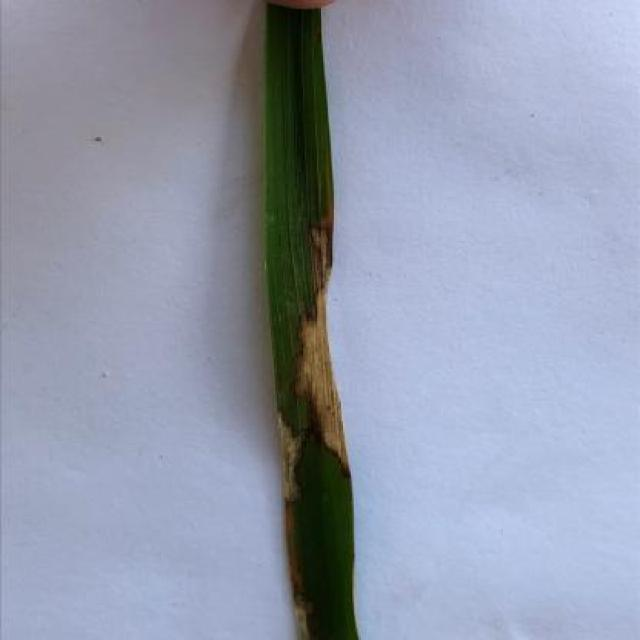Brown_Spot: (255, 11, 368, 640)
